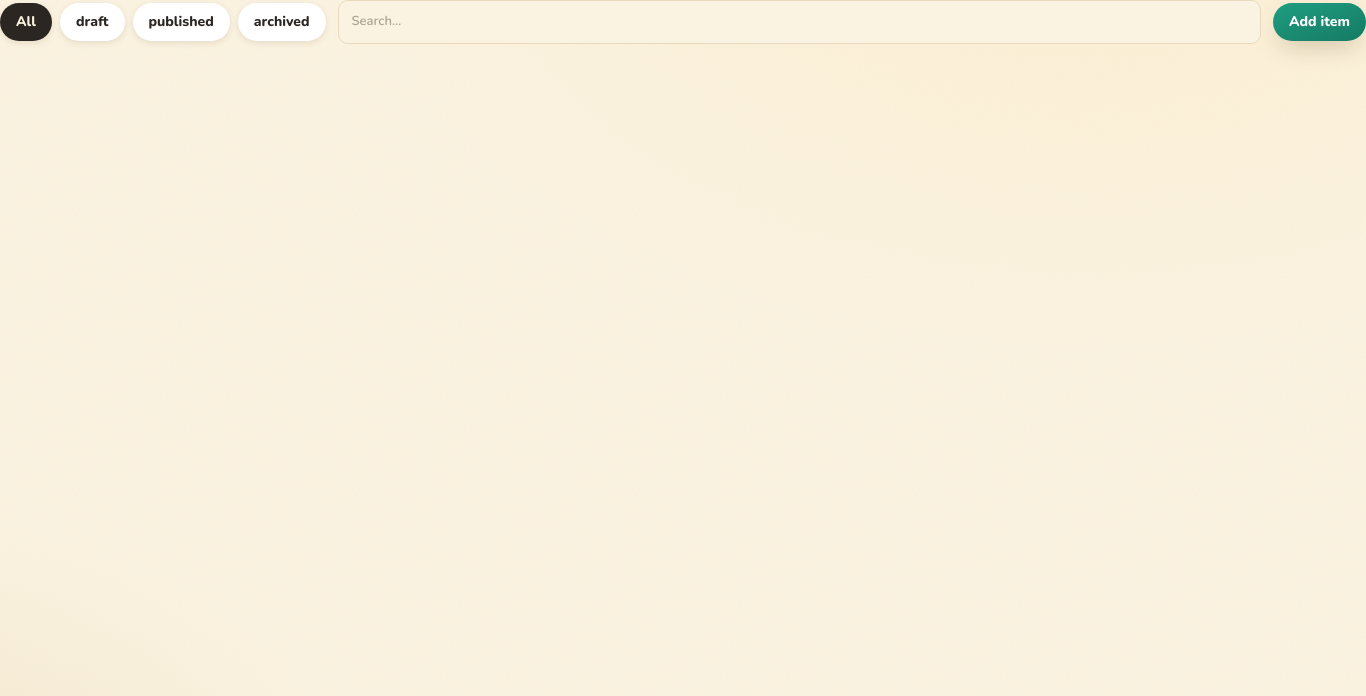
Test: AdminNewsScreen › prefills from preview and shows duplicate warning
This screenshot has width=1366, height=696.
Click the button "Add item" at (1320, 22), box [1273,3,1365,41]
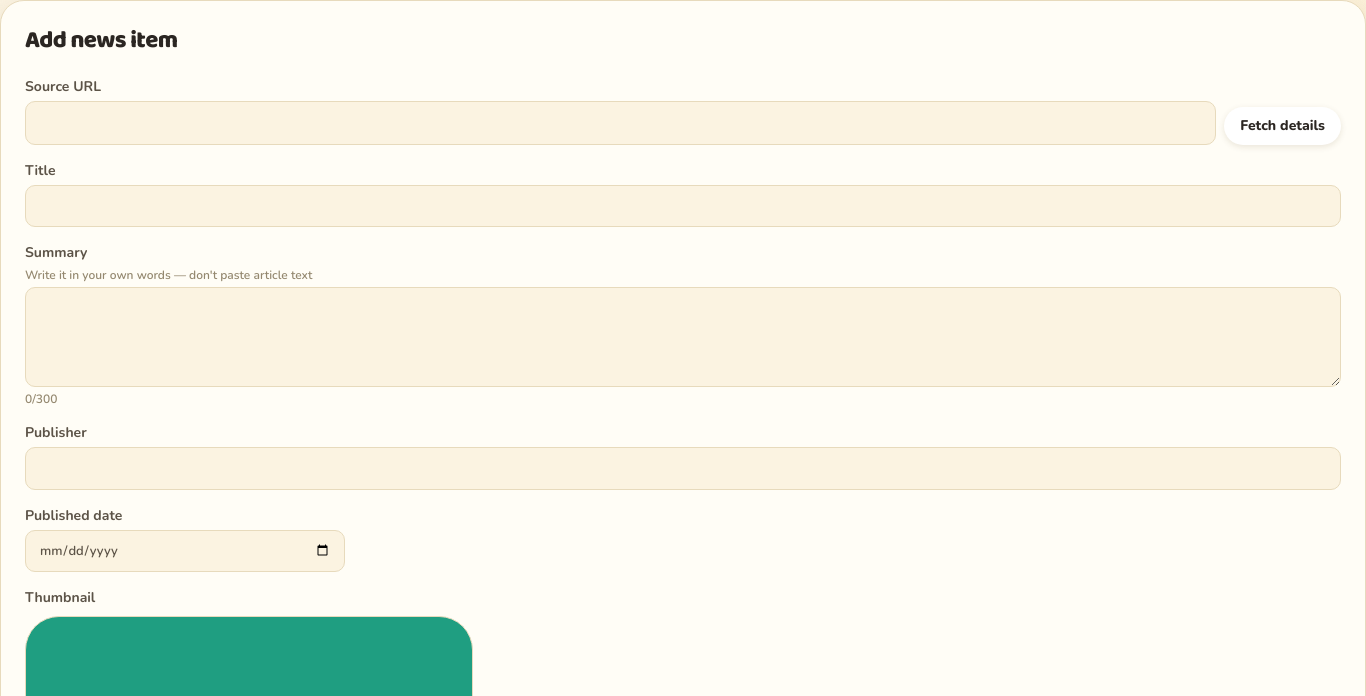
Type "https://example.com/new" into the field labelled "Source URL" at (621, 123), box [25,101,1216,144]
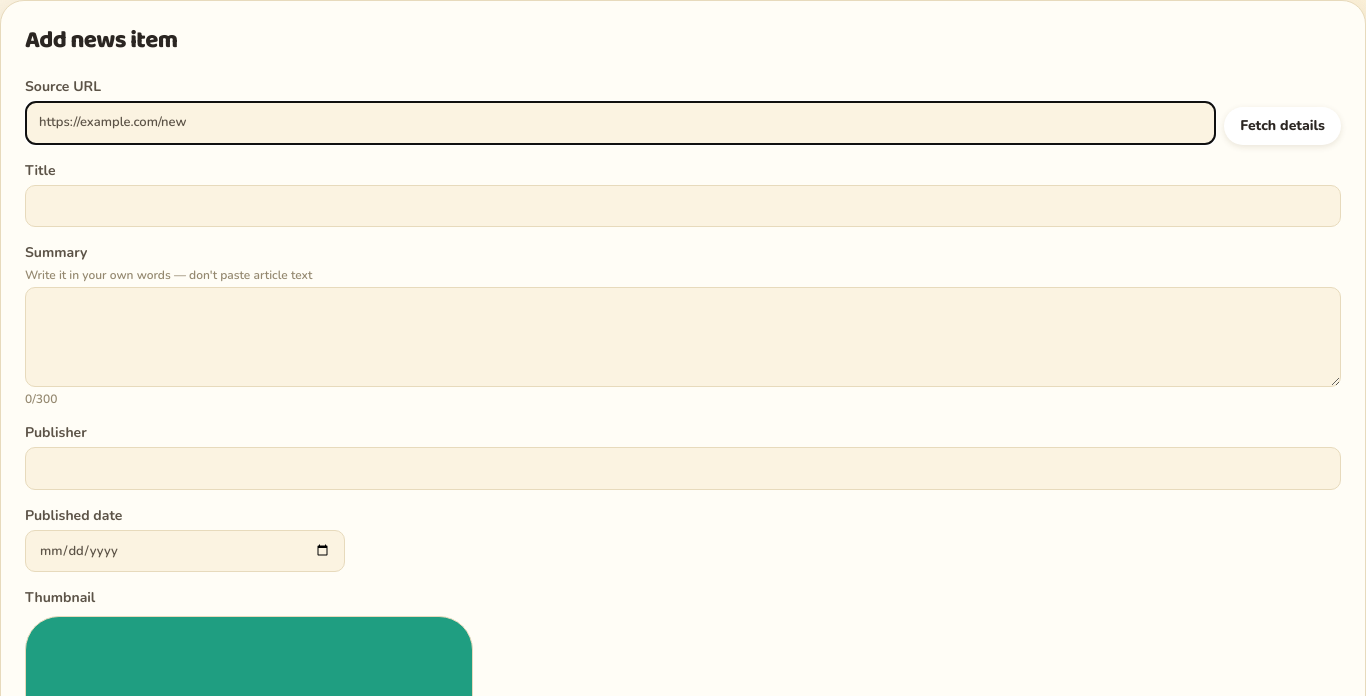
Click the button "Fetch details" at (1283, 126), box [1224,106,1341,144]
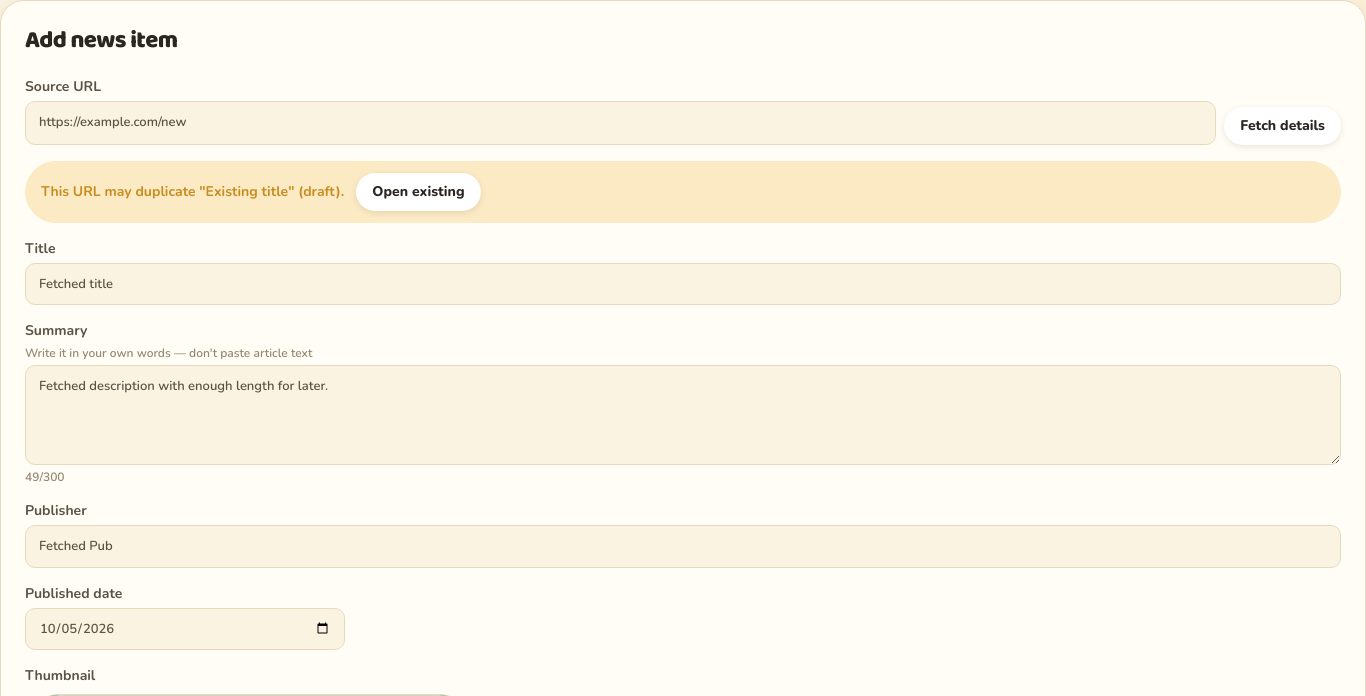
Expected: the field showing "Fetched title" is shown, [25,262,1341,305]
Expected: the text "This URL may duplicate \"Existing title\" (draft)." is shown, [41,182,344,202]
